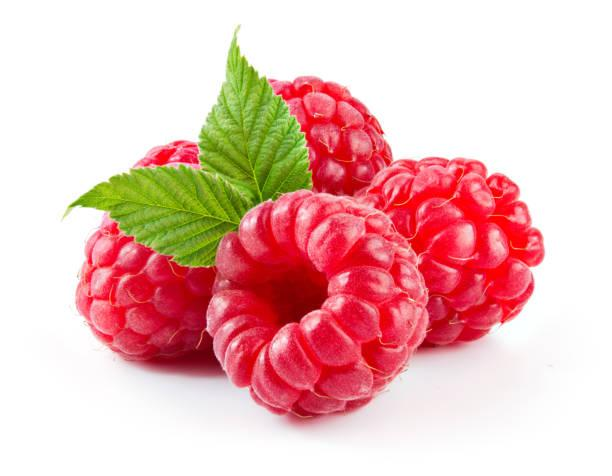raspberry: (204, 187, 429, 419), (353, 155, 544, 347), (74, 139, 217, 361), (265, 74, 393, 196)
